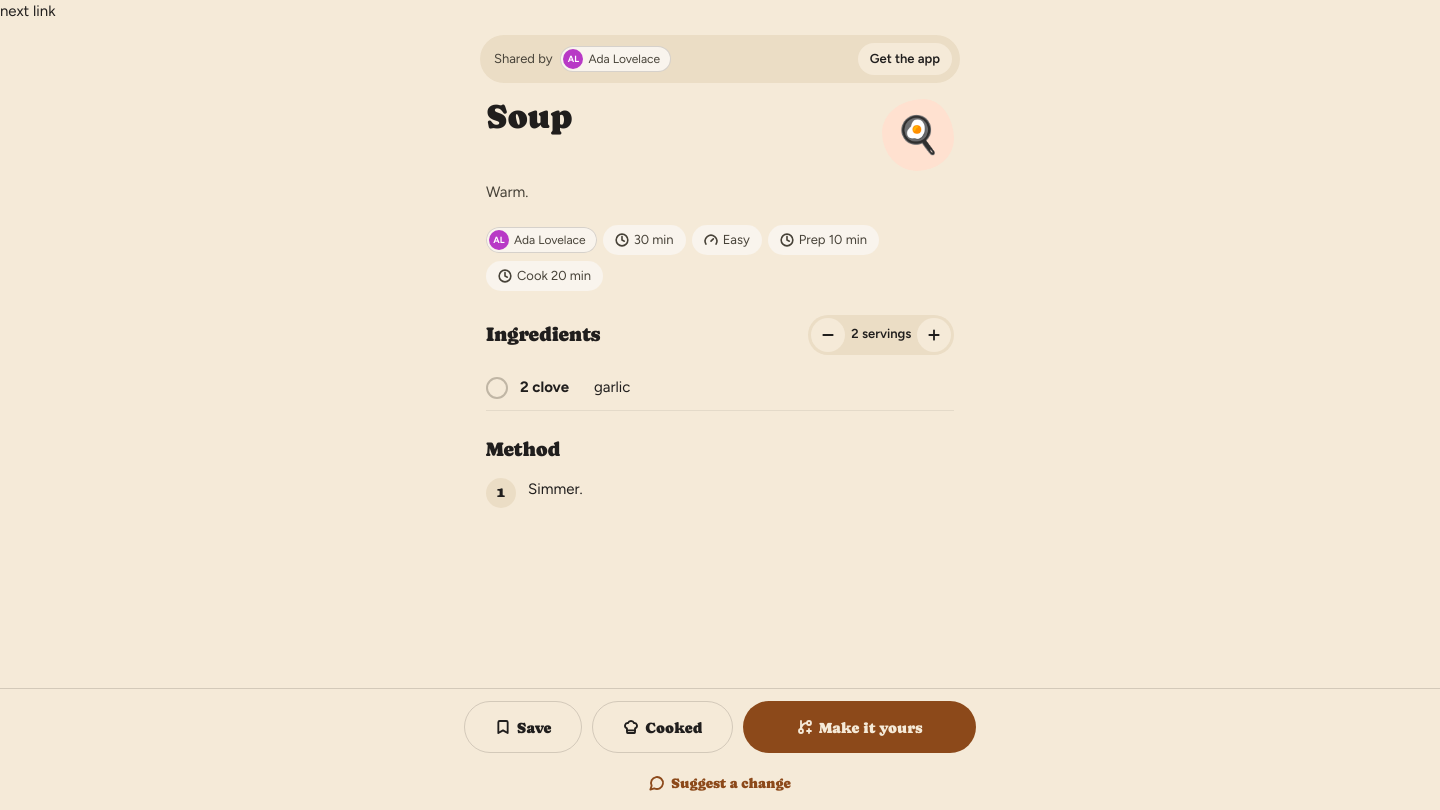
Test: SharedRecipePage /shared/:id › an unverified account gets the sign-up dialog, not suggest mode
Click the button "Suggest a change".
click(720, 783)  # box [464,761,976,805]
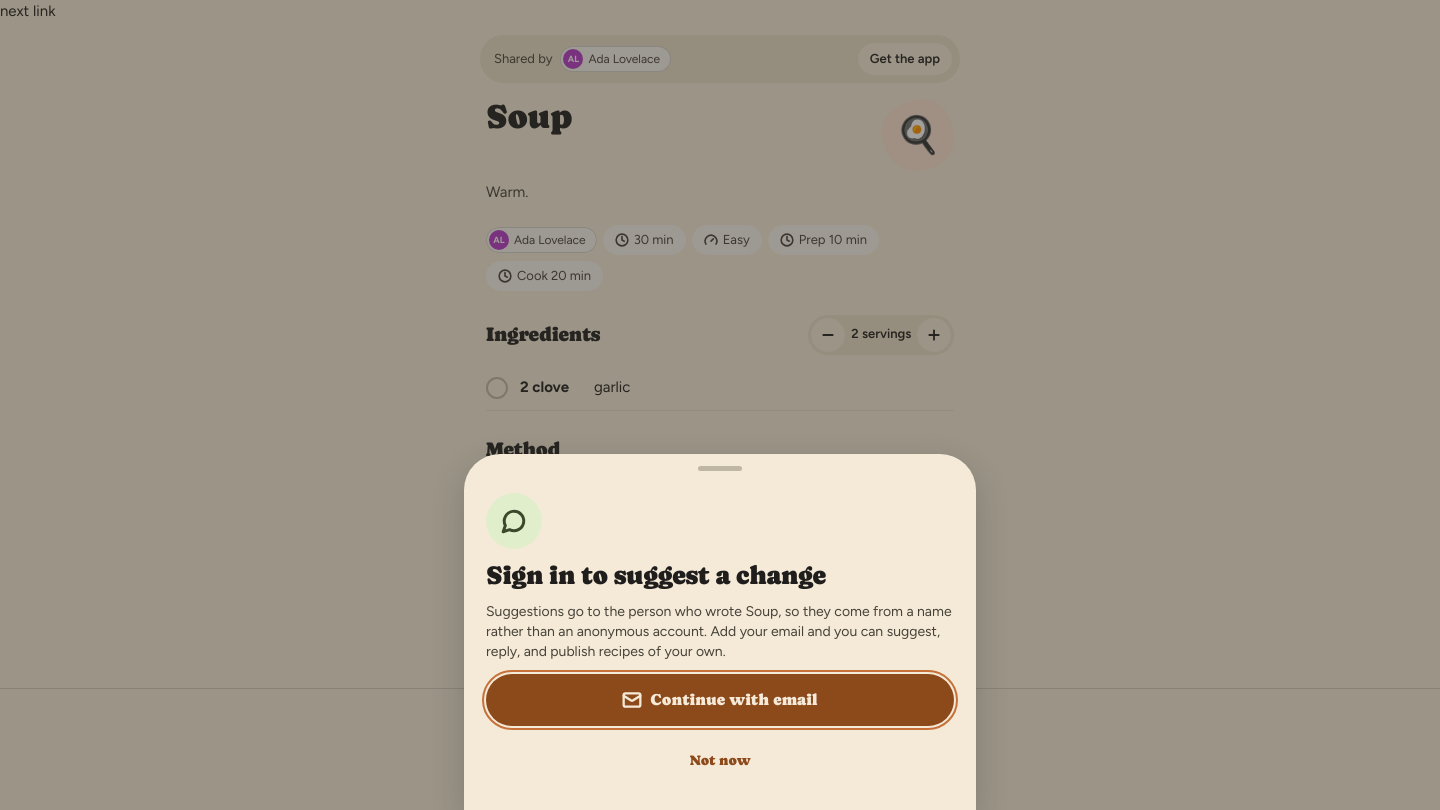
expect the dialog "Sign in to suggest a change" is shown: met, box [464,454,976,809]
